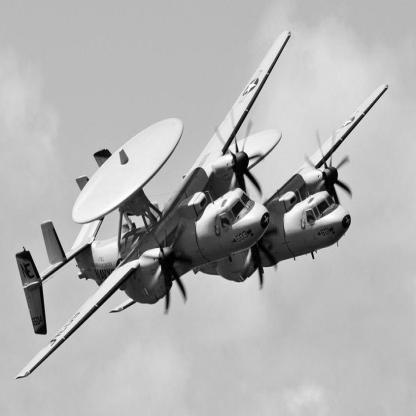E2: (15, 31, 292, 382), (109, 85, 390, 315)
